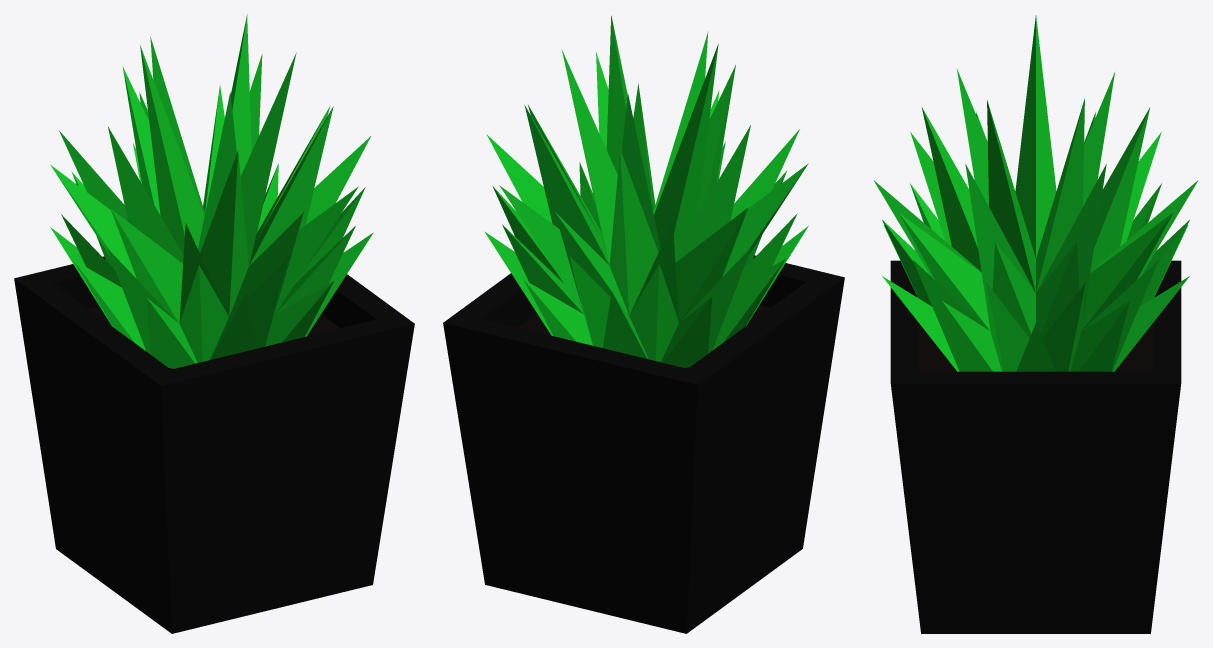
The model's file is FBX_Flower_A.fbx.
3 renders of one model, left to right at view 1: azimuth 30°, elevation 25°; view 2: azimuth 150°, elevation 25°; view 3: azimuth 270°, elevation 25°, orthographic.
Parts seen in each view (by area): view 1: Flower_A; view 2: Flower_A; view 3: Flower_A.
Boxes of the visible parts, x1,y1,x2,y2 form: Flower_A: (14, 14, 414, 633); Flower_A: (443, 15, 844, 633); Flower_A: (873, 15, 1198, 633).
Bounding box in the file's own units: 0.6663 × 1.22 × 0.6728.
